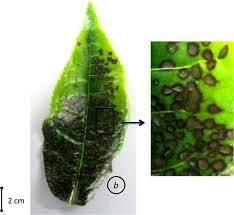Xanthomonas: (157, 45, 227, 172), (57, 88, 86, 145), (92, 62, 116, 103)
